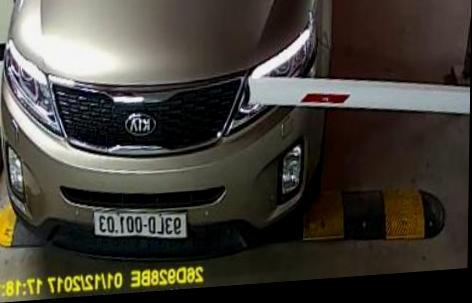License_Plate: (92, 207, 189, 243)
